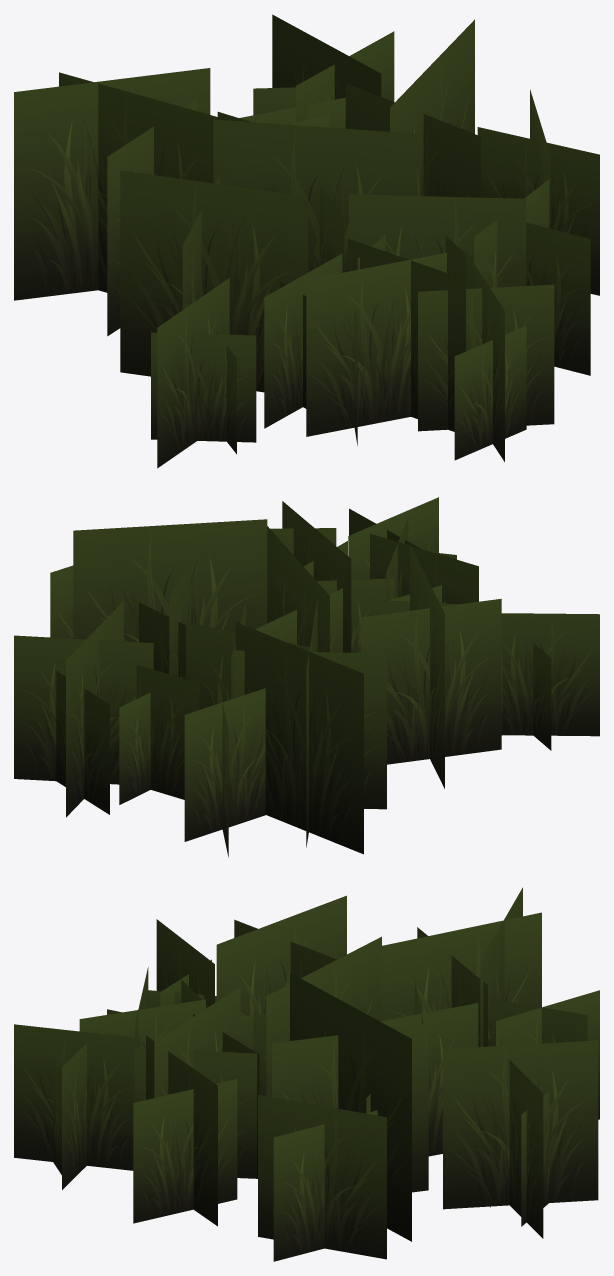
The model's file is Grass_05.fbx.
The picture shows the model from 3 angles, top to bottom: view 1: azimuth 30°, elevation 25°; view 2: azimuth 150°, elevation 25°; view 3: azimuth 270°, elevation 25°; orthographic projection. The views are drawn at different scales.
Parts seen in each view (by area): view 1: Grass_05; view 2: Grass_05; view 3: Grass_05.
Part boxes in pixels (box(x1,y1,x2,y2)): Grass_05: box(14, 14, 599, 468); Grass_05: box(14, 497, 599, 857); Grass_05: box(14, 887, 599, 1261).
Size of the model in its own units: 3.22 by 1.4 by 3.65.
Materials: 1 (1 with a texture image).
